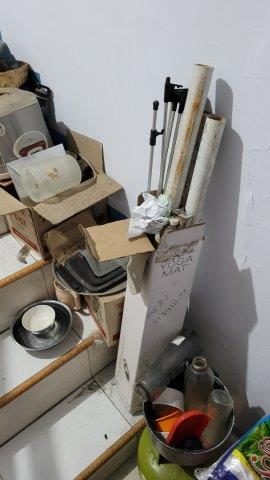kertas: (125, 193, 174, 240)
